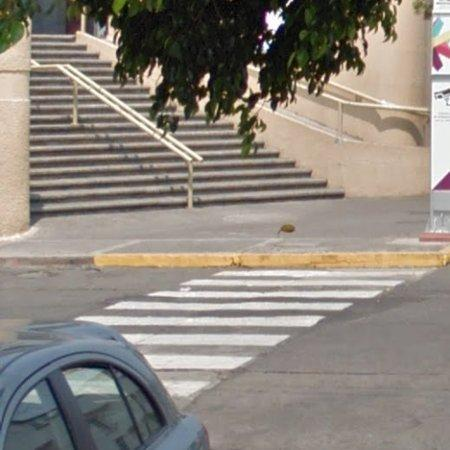stairs: (30, 72, 187, 215), (175, 117, 345, 205), (32, 36, 151, 116)
